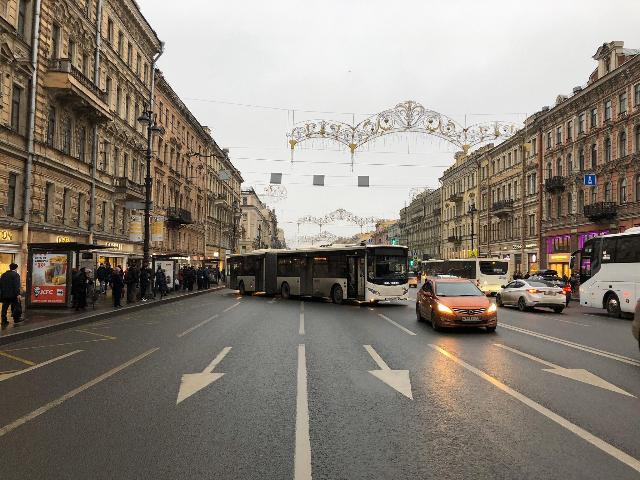bus: (224, 241, 412, 311), (566, 225, 640, 321), (419, 257, 512, 300)
